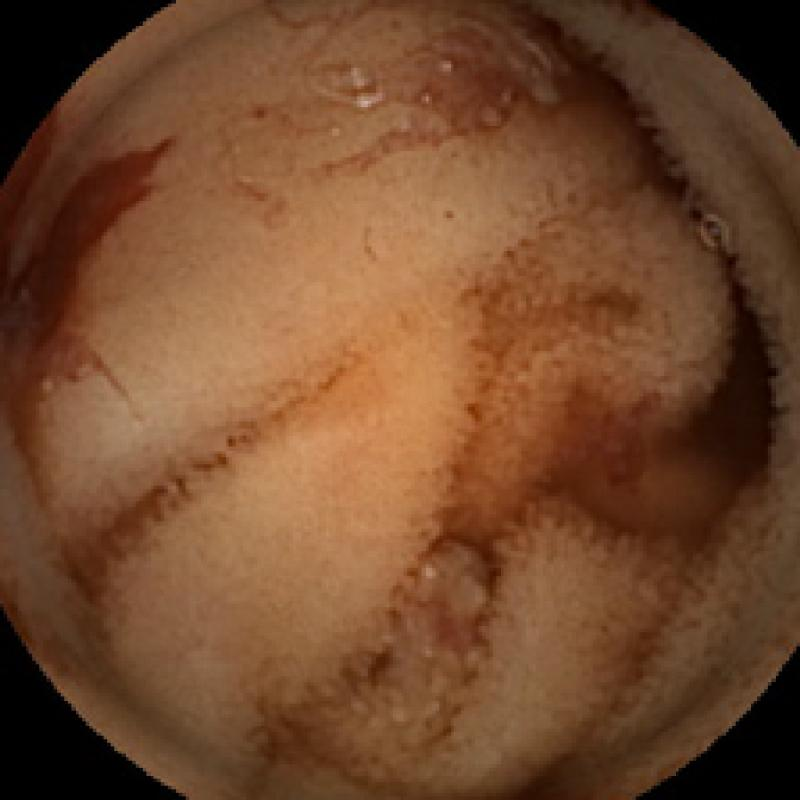bleeding: (0, 111, 182, 357)
